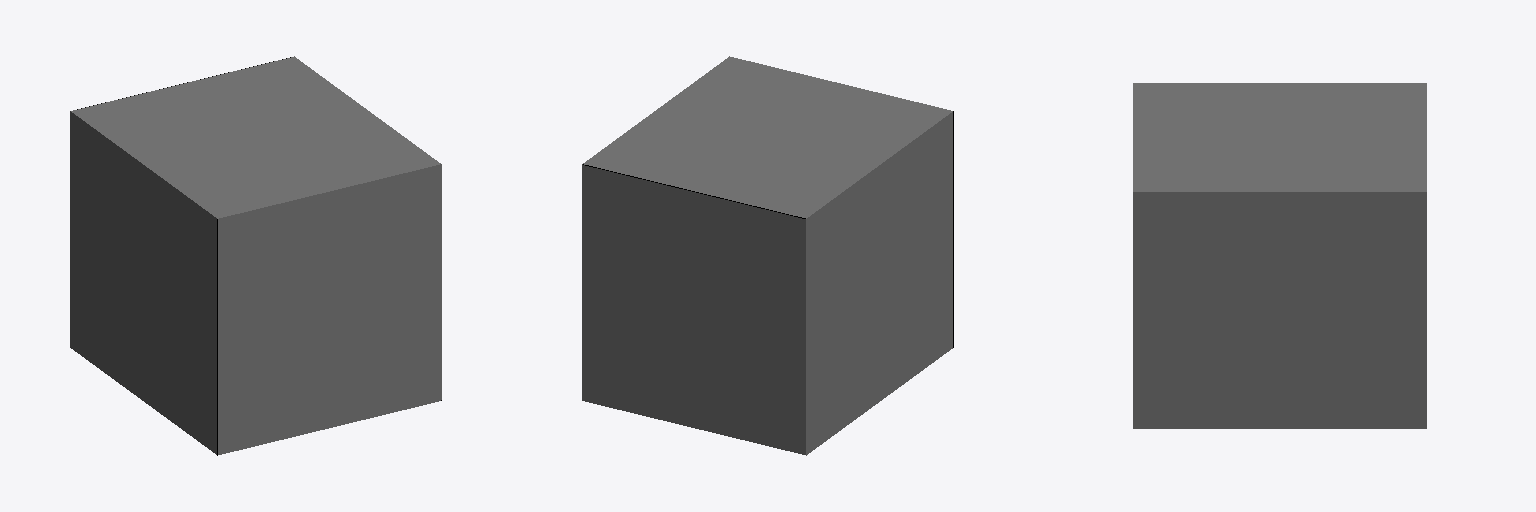
3 renders of one model, left to right at view 1: azimuth 30°, elevation 25°; view 2: azimuth 150°, elevation 25°; view 3: azimuth 270°, elevation 25°, orthographic.
Bounding box in the file's own units: 0.101 × 0.102 × 0.115.
1 materials, 1 textured.